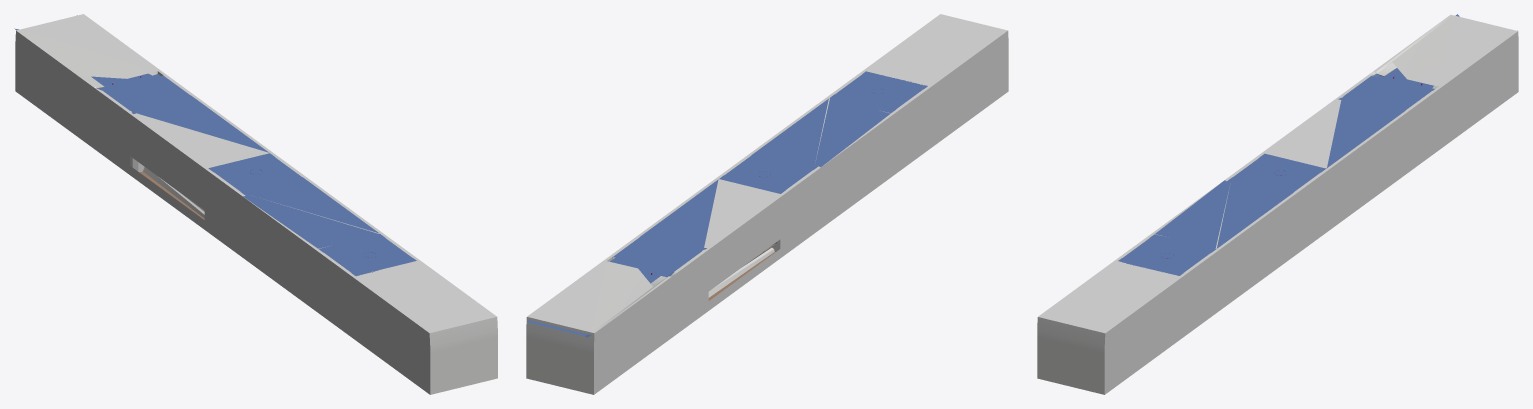
Rendered from metro.fbx.
3 views of the same model, side by side, from view 1: azimuth 30°, elevation 25°; view 2: azimuth 150°, elevation 25°; view 3: azimuth 330°, elevation 25° (orthographic).
Parts seen in each view (by area): view 1: pCube6; view 2: pCube6; view 3: pCube6.
Boxes of the visible parts, x1=… form: pCube6: x1=14, y1=14, x2=497, y2=394; pCube6: x1=526, y1=14, x2=1008, y2=394; pCube6: x1=1037, y1=14, x2=1518, y2=394.
Size of the model in its own units: 19.74 by 19.37 by 211.
